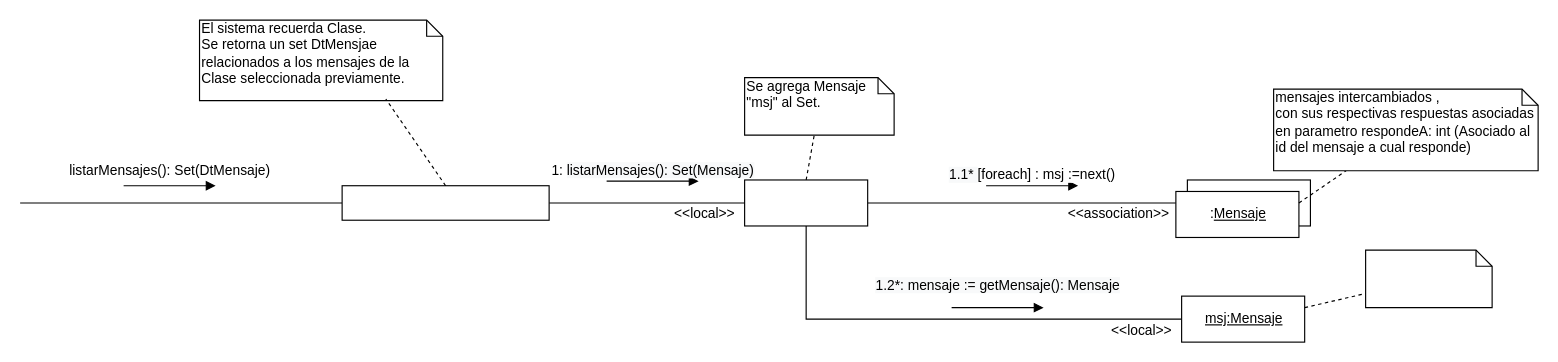
Image size: 1558x362. Some labels were removed from this diagram. Here are the shapes that lost their labels. From the top down, the centre of each, then its label:
(445,202): :ClaseController
(805,202): clase: Clase
(1428,278): Retorna un Mensaje "msj".
